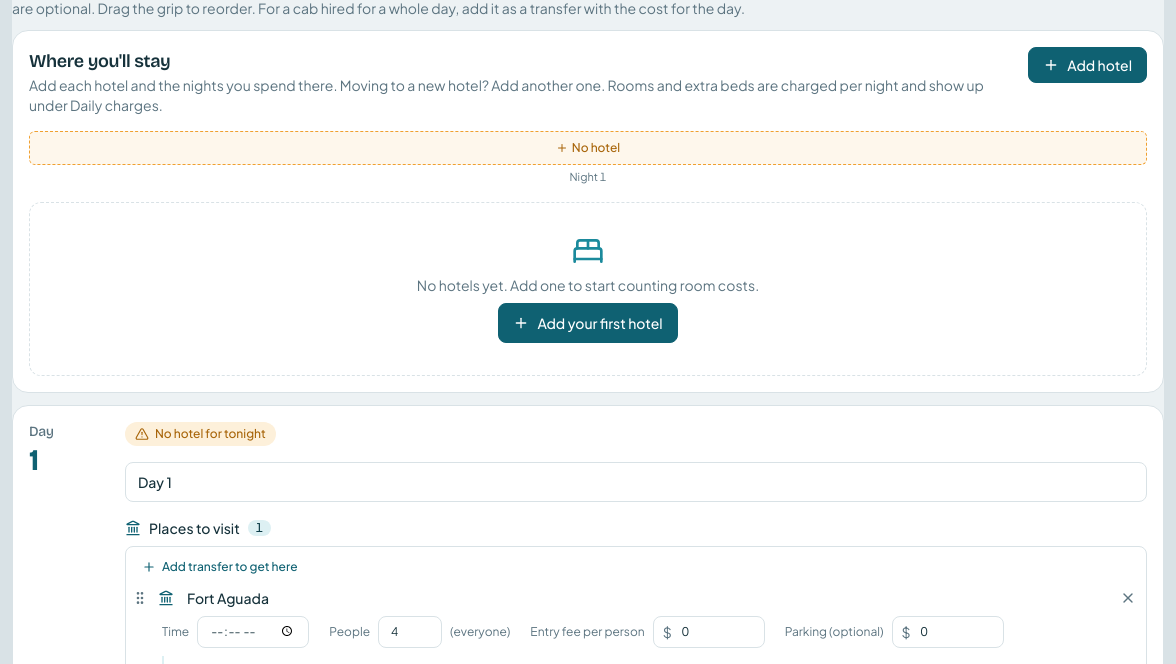
Scenario: Parking › is an optional field on each place, 0 by default, with no cost row until you enter a price
Replace the text in the number field named "Day 1 place 1 parking" with "150" at (948, 632), box [892,616,1004,648]
(page scrolled)
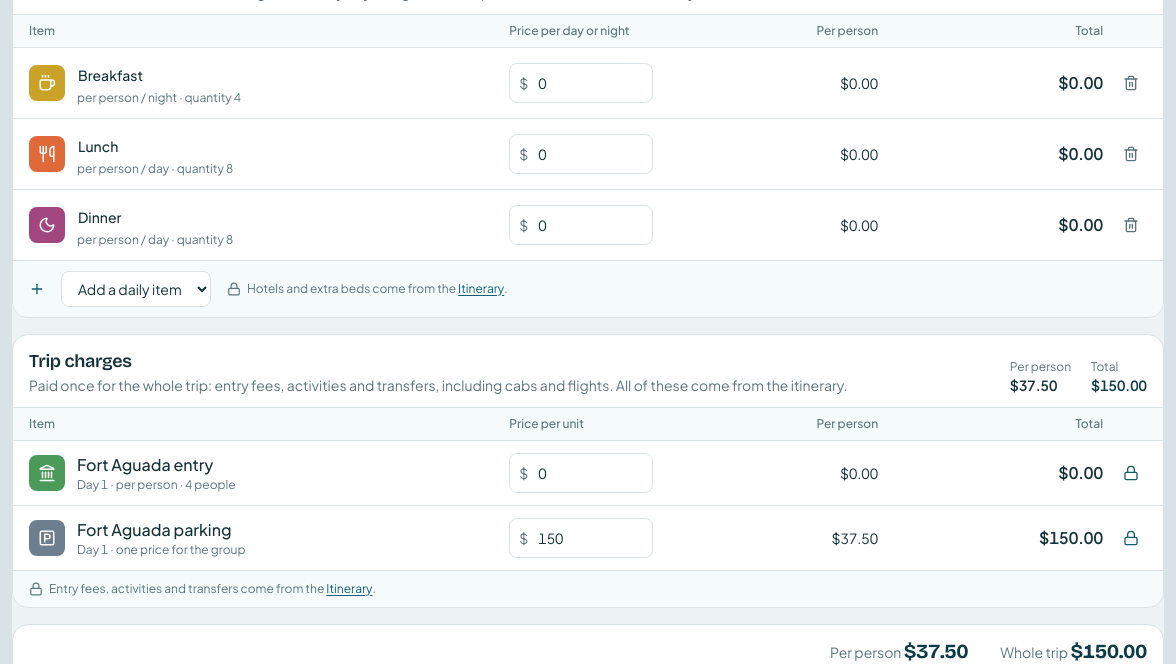
Expected: the list item with test id "row-parking" shows "Fort Aguada parking", [77,518,232,540]
Expected: the list item with test id "row-parking" shows "one price for the group", [77,542,245,556]
Expected: the list item with test id "row-parking" shows "$150.00", [1039,526,1103,548]
